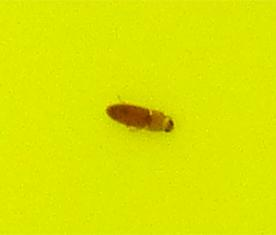Coleoptera: (100, 100, 176, 135)
